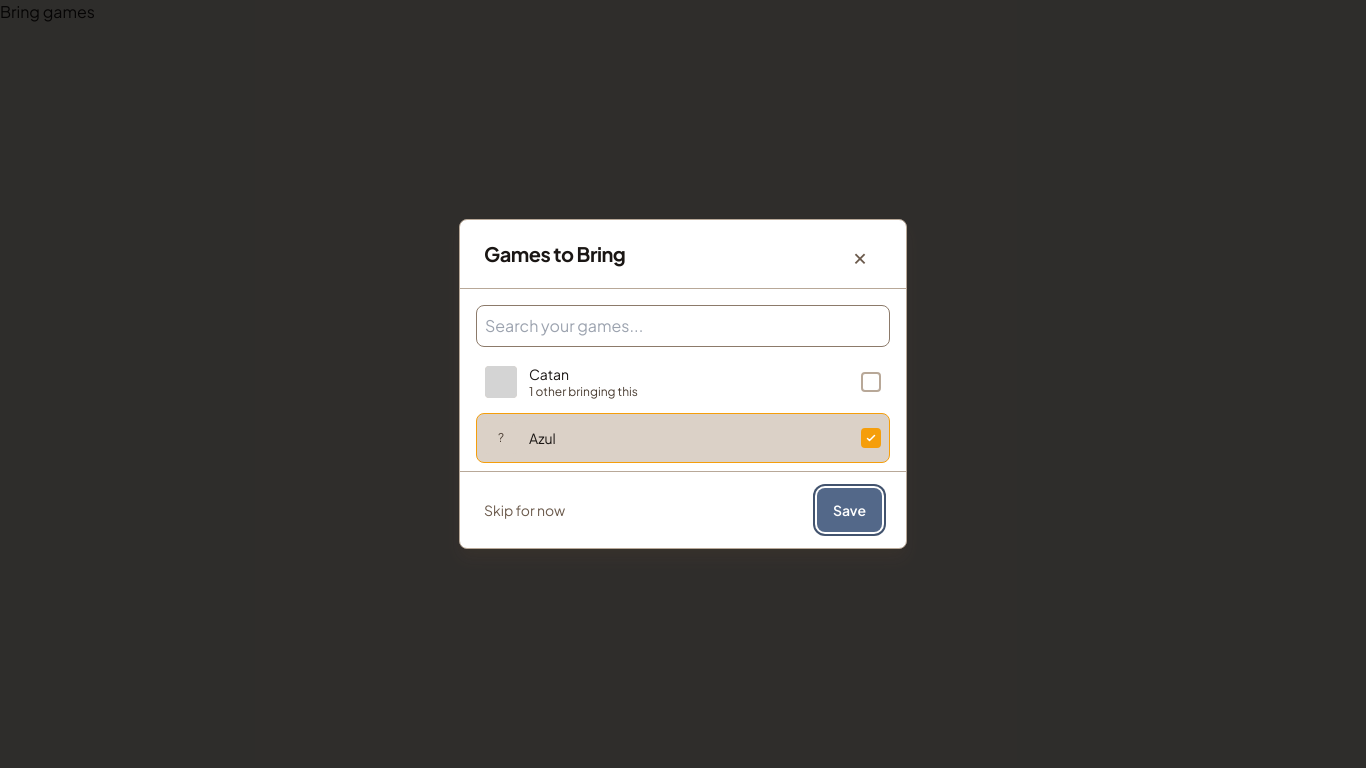
Test: BringGamePicker — the defects axe cannot see (T-88.6-124 / T-88.6-142) › S1. while a save is IN FLIGHT the pressed Save is aria-disabled, NOT natively disabled, and reads Saving... (D-35)
The width and height of the screenshot is (1366, 768).
Click the button "Save".
click(850, 510)  # box [817,488,882,532]
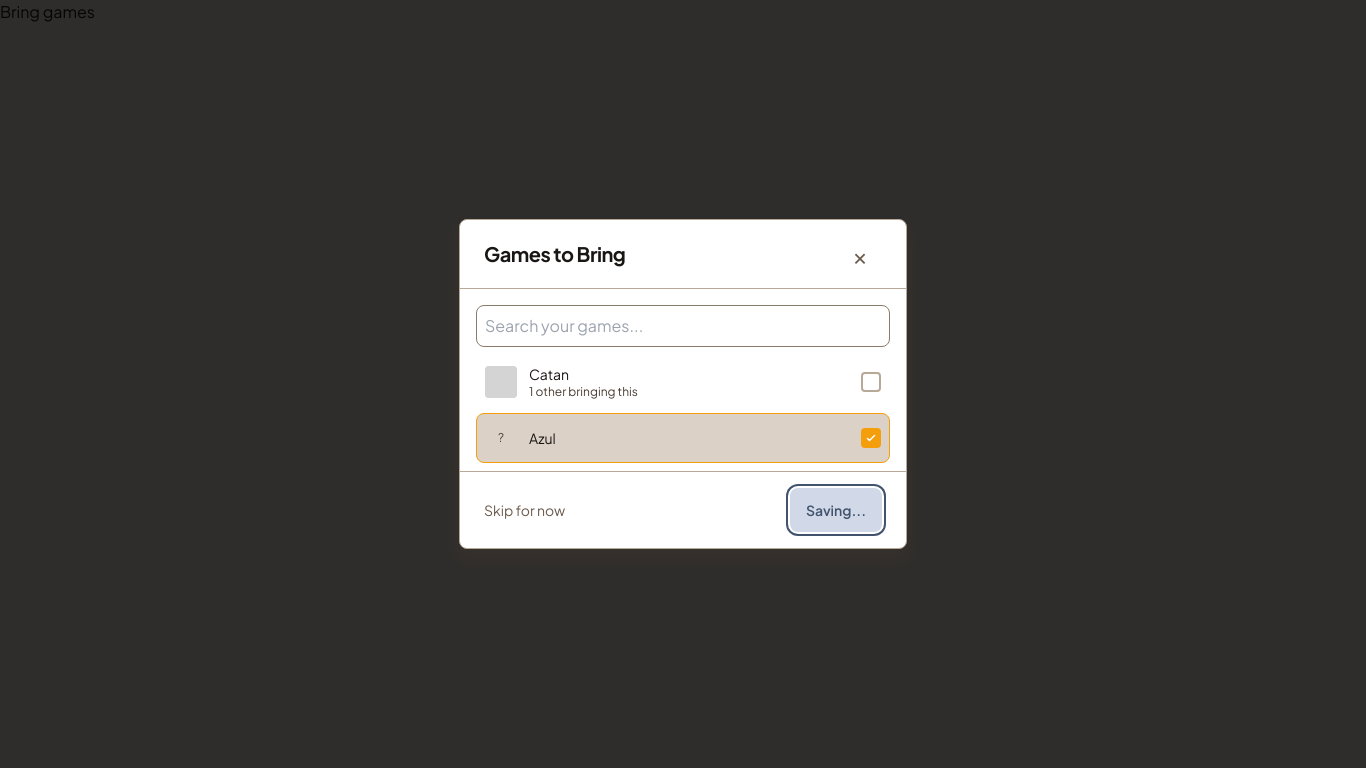
Expected: the button named "Save" reads "Saving...", [790,488,882,532]
